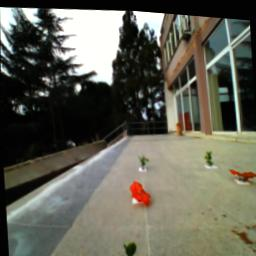herb: (115, 237, 141, 256), (203, 148, 215, 166), (138, 153, 148, 167)
wild: (128, 178, 152, 205), (227, 163, 256, 181)
